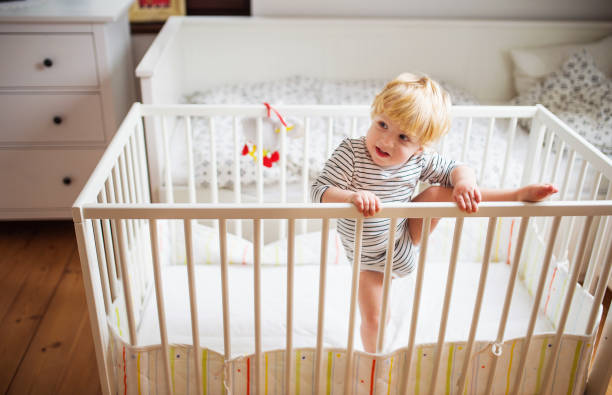baby: (311, 73, 556, 216)
crib: (73, 103, 611, 393)
